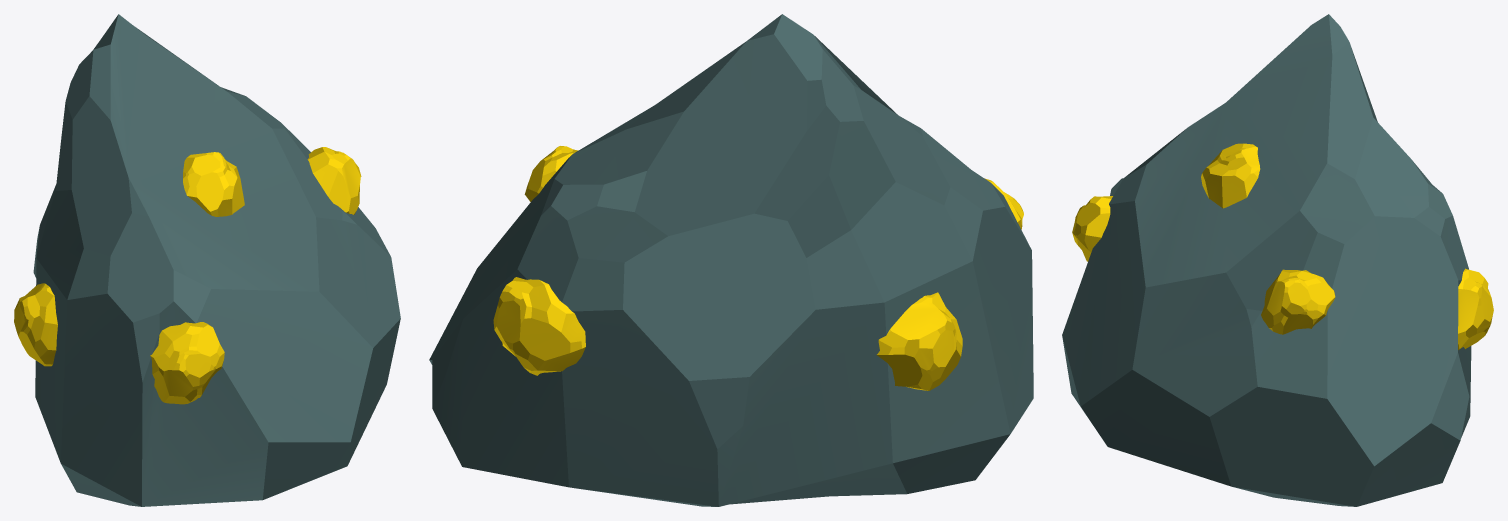
Rendered from Gold5.fbx.
3 renders of one model, left to right at view 1: azimuth 30°, elevation 25°; view 2: azimuth 150°, elevation 25°; view 3: azimuth 270°, elevation 25°, orthographic. The views are drawn at different scales.
Visible parts, largest first — view 1: Rock4, Nodes.004; view 2: Rock4, Nodes.004; view 3: Rock4, Nodes.004.
Boxes of the visible parts, x1,y1,x2,y2 form: Rock4: (33, 14, 400, 506); Nodes.004: (14, 147, 361, 404); Rock4: (429, 14, 1033, 506); Nodes.004: (493, 146, 1023, 390); Rock4: (1062, 14, 1471, 506); Nodes.004: (1072, 143, 1493, 349).
Size of the model in its own units: 137 by 139 by 135.
